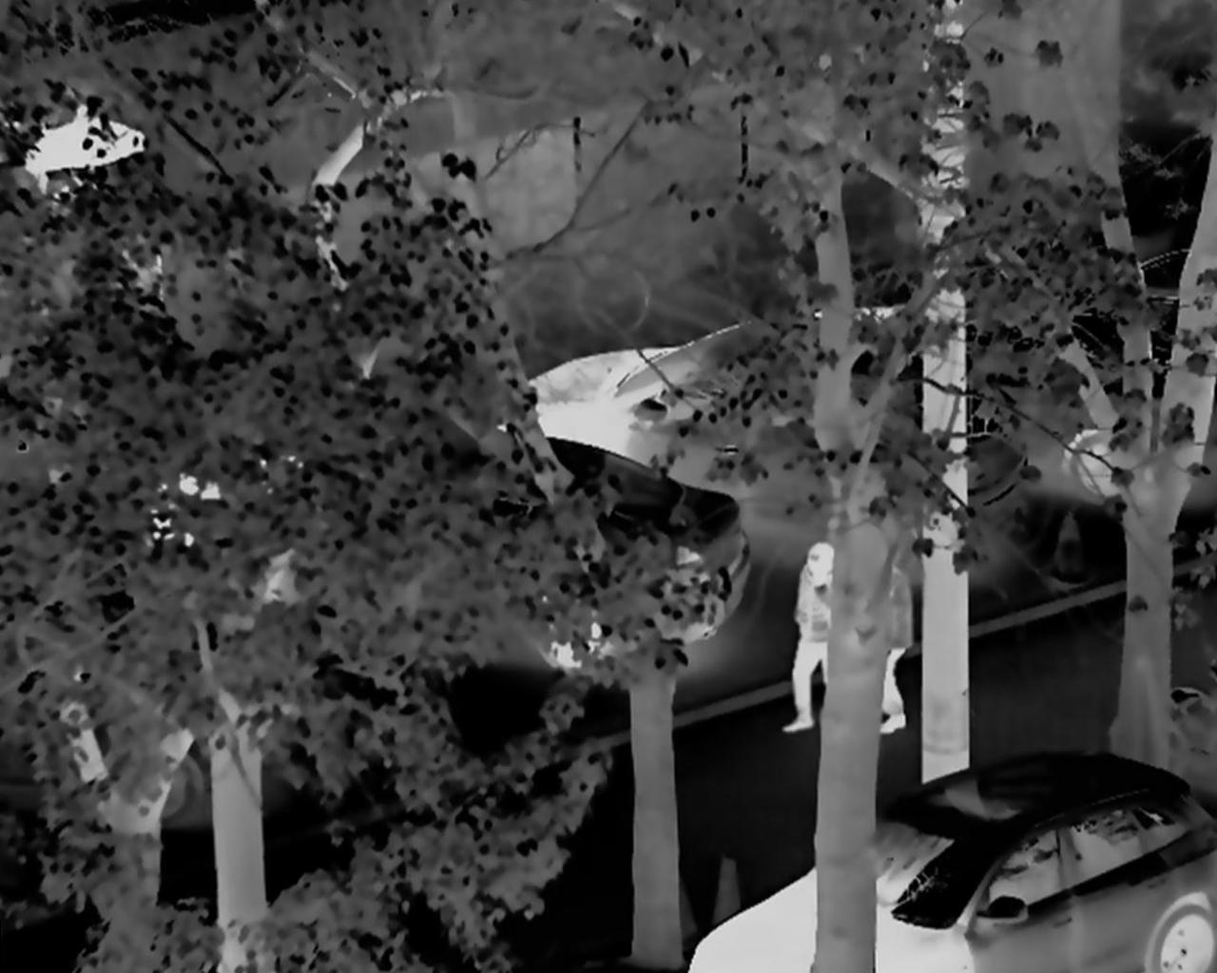person: (768, 544, 850, 742), (861, 556, 916, 743)
